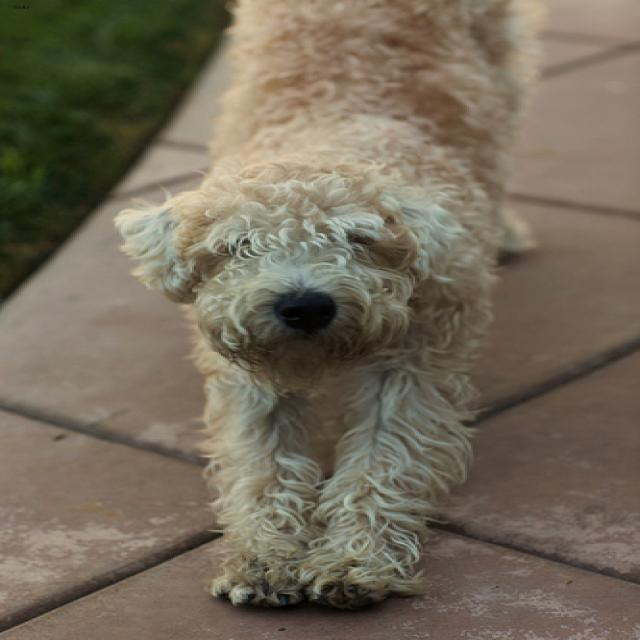dog-wheaten_terrier: (102, 1, 573, 618)
